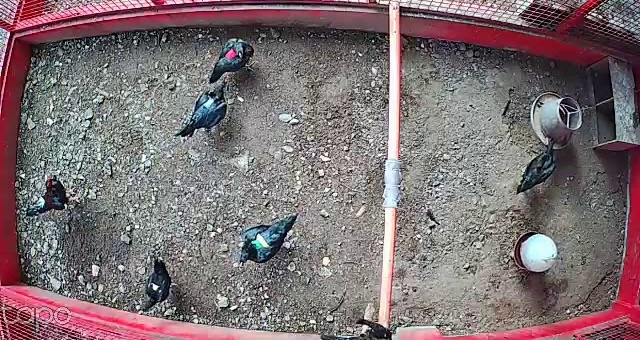Chicken: (175, 76, 236, 141), (237, 216, 297, 271), (207, 35, 257, 86), (142, 253, 177, 313)
Rooster: (25, 179, 84, 221)
Saddle_Color_Red: (224, 48, 235, 59)
Saddle_Color_White: (206, 95, 214, 102)
Saddle_Color_Yellow: (149, 282, 162, 291)
Saddle_Color_YellowGreen: (250, 233, 266, 250)
